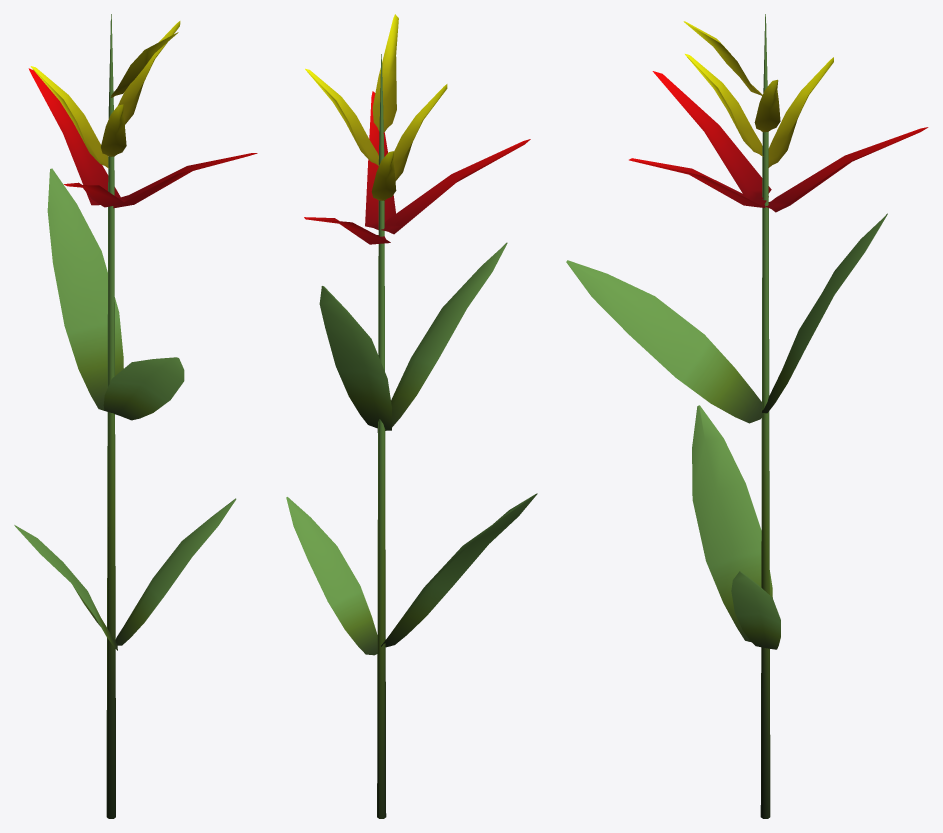
File: Heliconia spp 2.fbx
The picture shows the model from 3 angles, left to right: view 1: azimuth 30°, elevation 25°; view 2: azimuth 150°, elevation 25°; view 3: azimuth 270°, elevation 25°; orthographic projection. The views are drawn at different scales.
Visible parts, largest first — view 1: base stem.001; view 2: base stem.001; view 3: base stem.001.
Boxes of the visible parts, x1,y1,x2,y2 form: base stem.001: (14, 14, 257, 818); base stem.001: (286, 14, 537, 818); base stem.001: (566, 14, 928, 818).
Size of the model in its own units: 734 by 2339 by 950.
